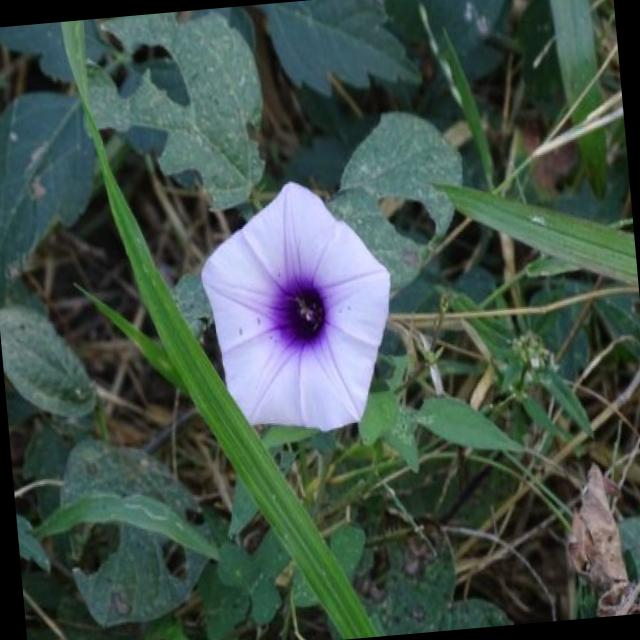ipomoea: (189, 170, 407, 447)
